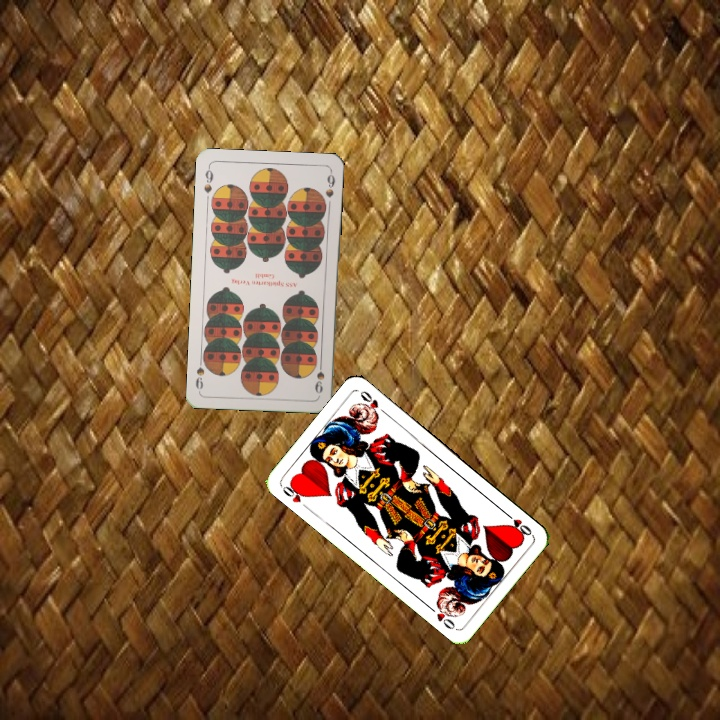HO: (278, 479, 312, 512), (500, 508, 534, 538)
S9: (311, 356, 327, 396), (200, 163, 216, 196)
